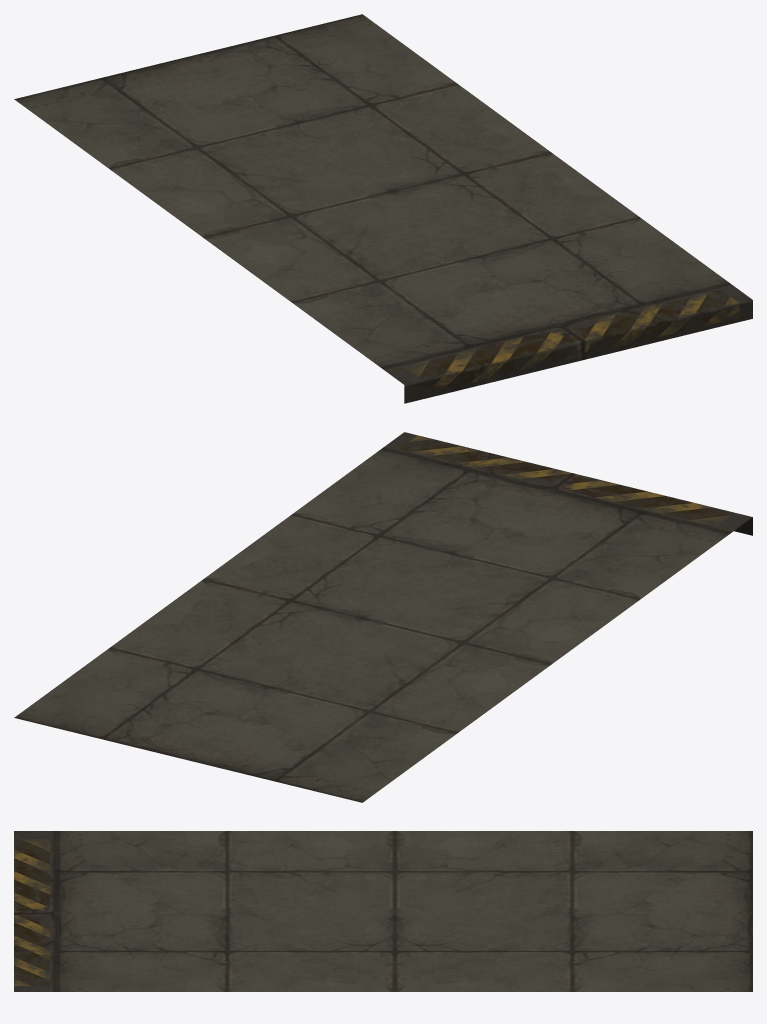
The model's file is Stage-gongchang-bianlu2.FBX.
3 views of the same model, one above another, from view 1: azimuth 30°, elevation 25°; view 2: azimuth 150°, elevation 25°; view 3: azimuth 270°, elevation 25° (orthographic). The views are drawn at different scales.
Parts seen in each view (by area): view 1: Box423; view 2: Box423; view 3: Box423.
Boxes of the visible parts, bbox=[...] form: Box423: bbox=[14, 14, 752, 403]; Box423: bbox=[14, 432, 752, 802]; Box423: bbox=[14, 831, 752, 991].
Size of the model in its own units: 5.6 by 10.86 by 0.2881.
